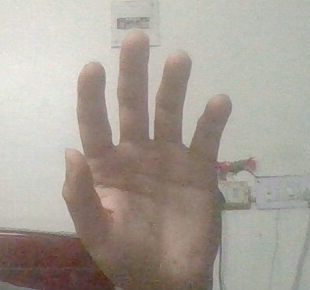move: (60, 25, 241, 261)
